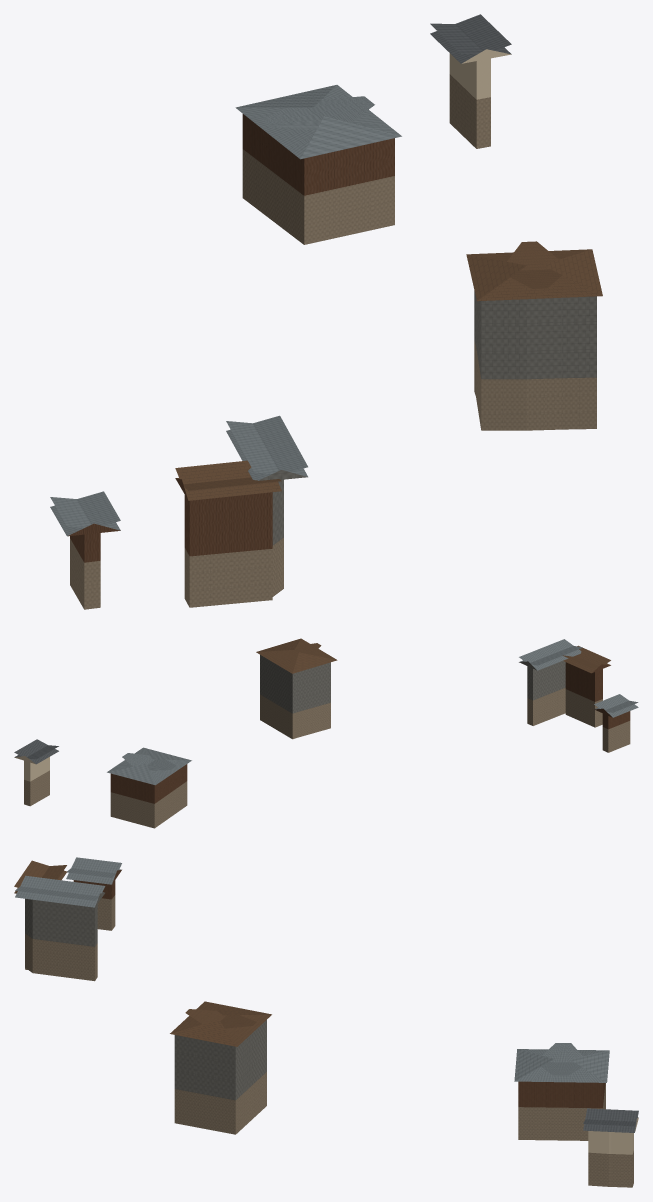
File: bld_c22_46_394.gltf
3 renders of one model, top to bottom at view 1: azimuth 30°, elevation 25°; view 2: azimuth 150°, elevation 25°; view 3: azimuth 270°, elevation 25°, orthographic. The views are drawn at different scales.
Visible parts, largest first — view 1: bld_c22_46_394; view 2: bld_c22_46_394; view 3: bld_c22_46_394.
Part boxes in pixels (<box>): bld_c22_46_394: <box>50,14,602,609</box>; bld_c22_46_394: <box>14,638,638,828</box>; bld_c22_46_394: <box>14,857,638,1187</box>.
Bounding box in the file's own units: 86.45 × 14.8 × 84.24.
Materials: 10 (10 with a texture image).
